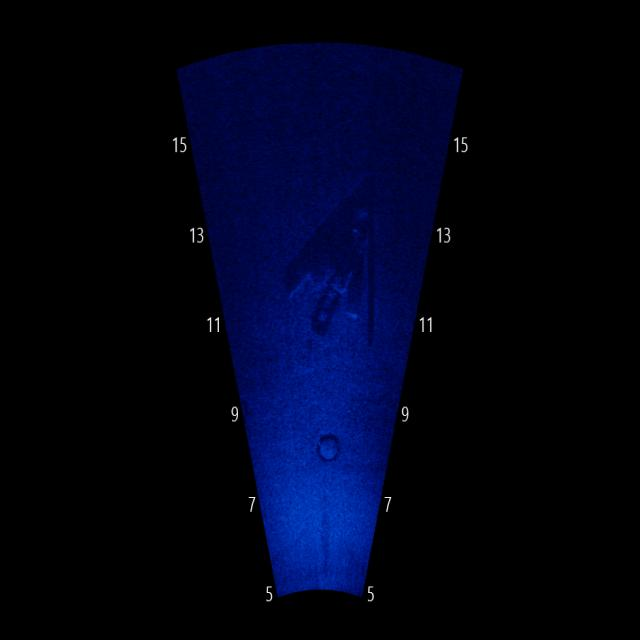triangle: (278, 196, 391, 355)
